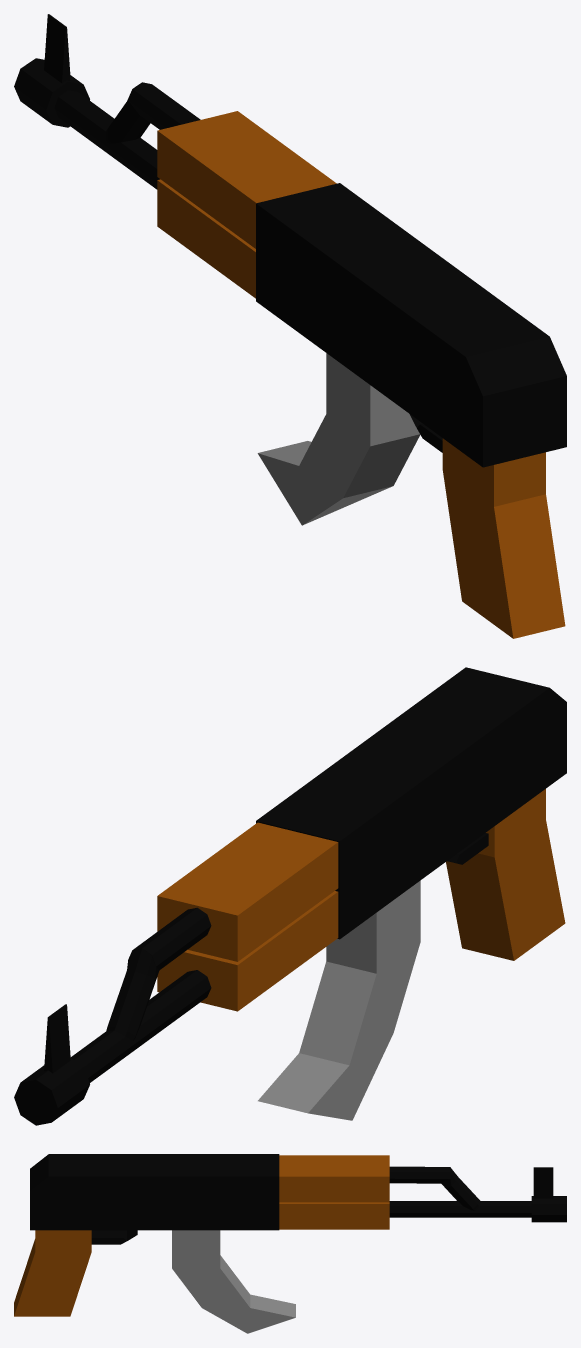
Rendered from rifle.glb.
3 renders of one model, top to bottom at view 1: azimuth 30°, elevation 25°; view 2: azimuth 150°, elevation 25°; view 3: azimuth 270°, elevation 25°, orthographic. The views are drawn at different scales.
Visible parts, largest first — view 1: Cube, Cube.002, Cube.005, Cube.001, Cube.006, Cylinder.001, Cylinder.003, Cylinder, Cube.007, Cylinder.002; view 2: Cube, Cube.005, Cube.001, Cube.002, Cube.006, Cylinder.001, Cylinder.003, Cylinder.002, Cylinder, Cube.007; view 3: Cube, Cube.005, Cube.001, Cube.002, Cube.006, Cylinder.001, Cylinder, Cylinder.003, Cylinder.002, Cube.007, Cube.003.
Part boxes in pixels (x1,y1,x2,y2): Cube: [256, 183, 566, 467]; Cube.002: [442, 438, 565, 638]; Cube.005: [257, 353, 420, 525]; Cube.001: [157, 111, 336, 248]; Cube.006: [157, 179, 255, 298]; Cylinder.001: [54, 90, 159, 189]; Cylinder.003: [14, 58, 89, 127]; Cylinder: [128, 82, 200, 129]; Cube.007: [44, 14, 70, 82]; Cylinder.002: [106, 91, 150, 143]; Cube: [256, 667, 566, 939]; Cube.005: [258, 880, 420, 1120]; Cube.001: [157, 822, 338, 961]; Cube.002: [446, 789, 565, 960]; Cube.006: [157, 891, 338, 1011]; Cylinder.001: [71, 970, 211, 1082]; Cylinder.003: [14, 1058, 89, 1125]; Cylinder.002: [106, 948, 159, 1041]; Cylinder: [132, 907, 211, 970]; Cube.007: [44, 1004, 70, 1073]; Cube: [30, 1154, 279, 1230]; Cube.005: [172, 1230, 295, 1333]; Cube.001: [279, 1155, 389, 1202]; Cube.002: [14, 1230, 91, 1316]; Cube.006: [279, 1202, 389, 1229]; Cylinder.001: [389, 1201, 531, 1217]; Cylinder: [389, 1166, 450, 1183]; Cylinder.003: [531, 1196, 566, 1222]; Cylinder.002: [441, 1167, 480, 1210]; Cube.007: [533, 1167, 553, 1198]; Cube.003: [91, 1230, 126, 1244].
Size of the model in its own units: 0.4439 by 1.54 by 4.61.
